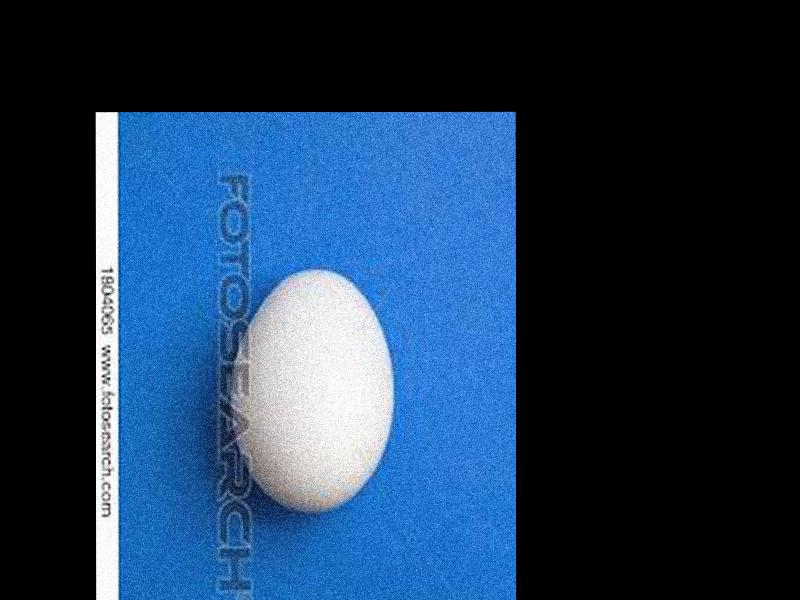Eggs: (225, 269, 393, 512)
